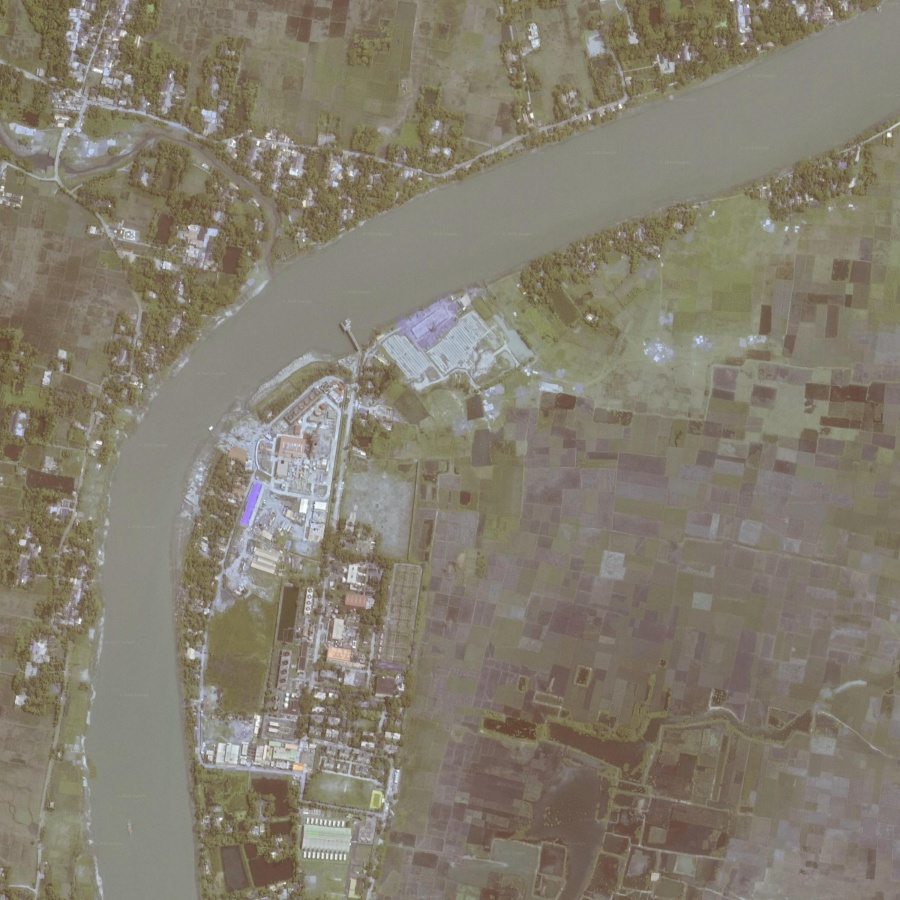PowerPlant: (267, 387, 338, 542)
